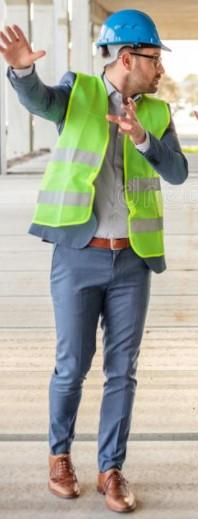hat: (82, 1, 181, 95)
vest: (32, 64, 186, 304)
